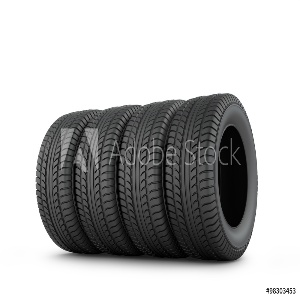tire: (172, 92, 260, 262), (33, 109, 100, 256), (76, 102, 141, 252), (125, 102, 186, 260)
